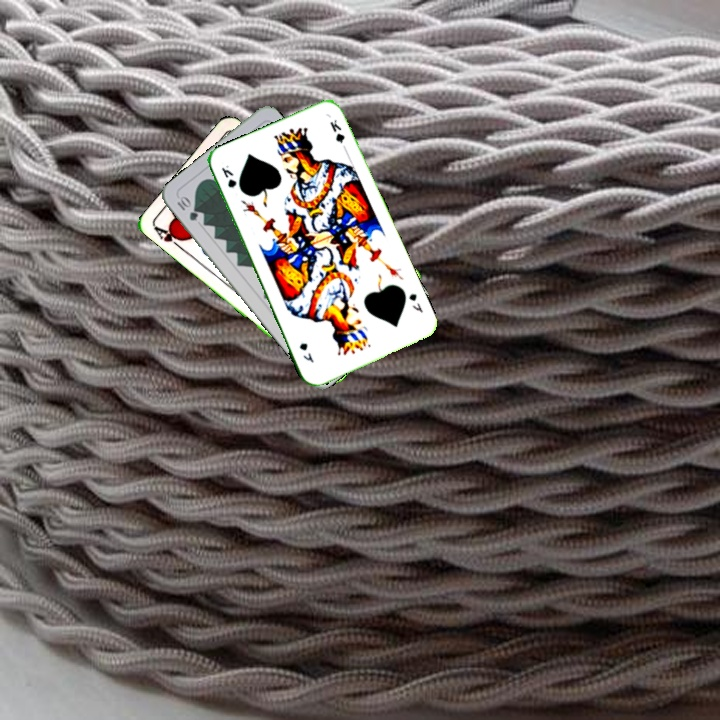G10: (173, 192, 201, 224)
GK: (217, 161, 239, 190), (404, 289, 426, 315)
HA: (150, 222, 186, 252)
